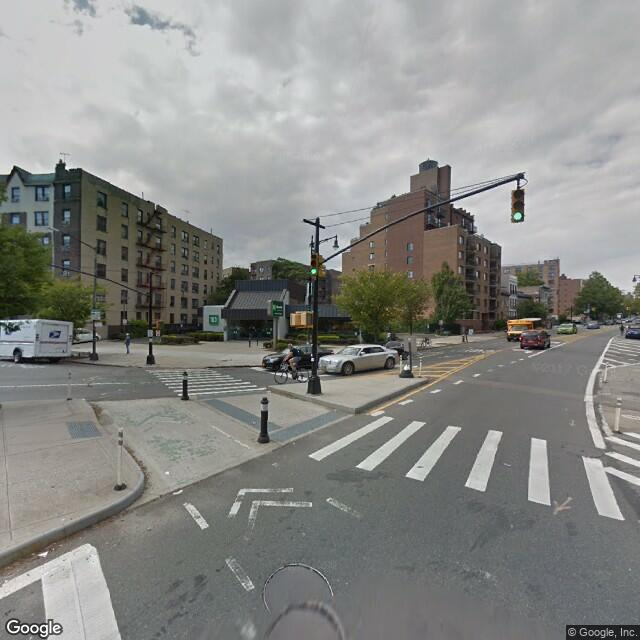litter: (36, 550, 49, 558), (165, 467, 169, 474), (174, 490, 183, 492)
